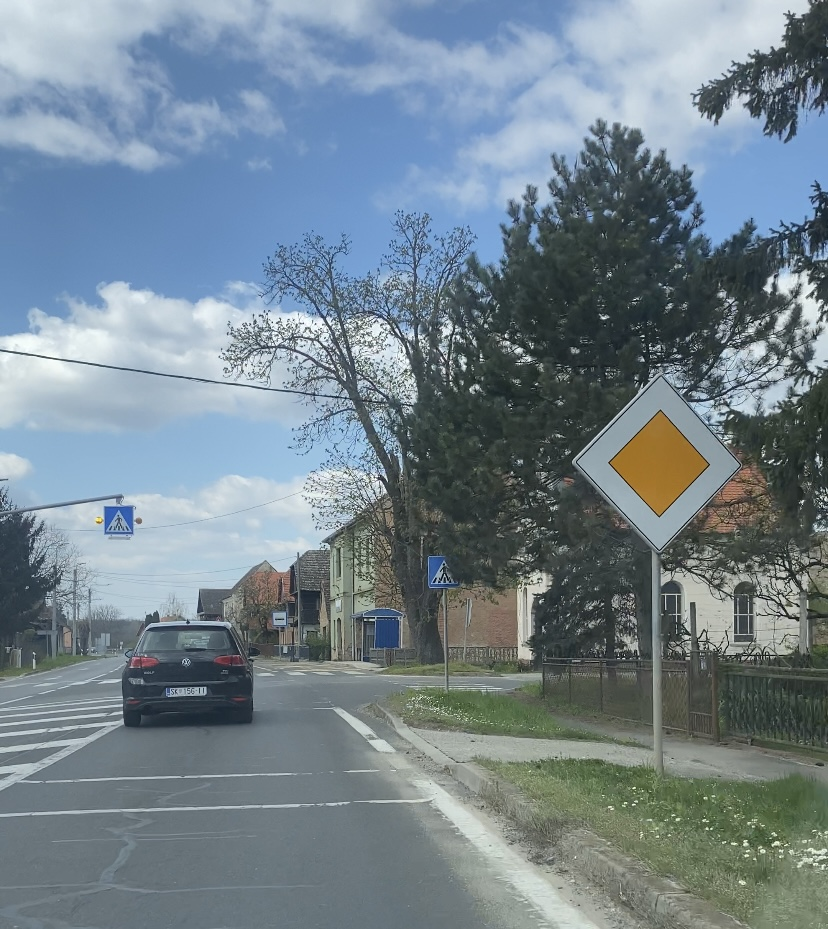Cesta s prednošću prolaska: (572, 373, 743, 555)
Pješački prijelaz: (104, 506, 134, 534)
